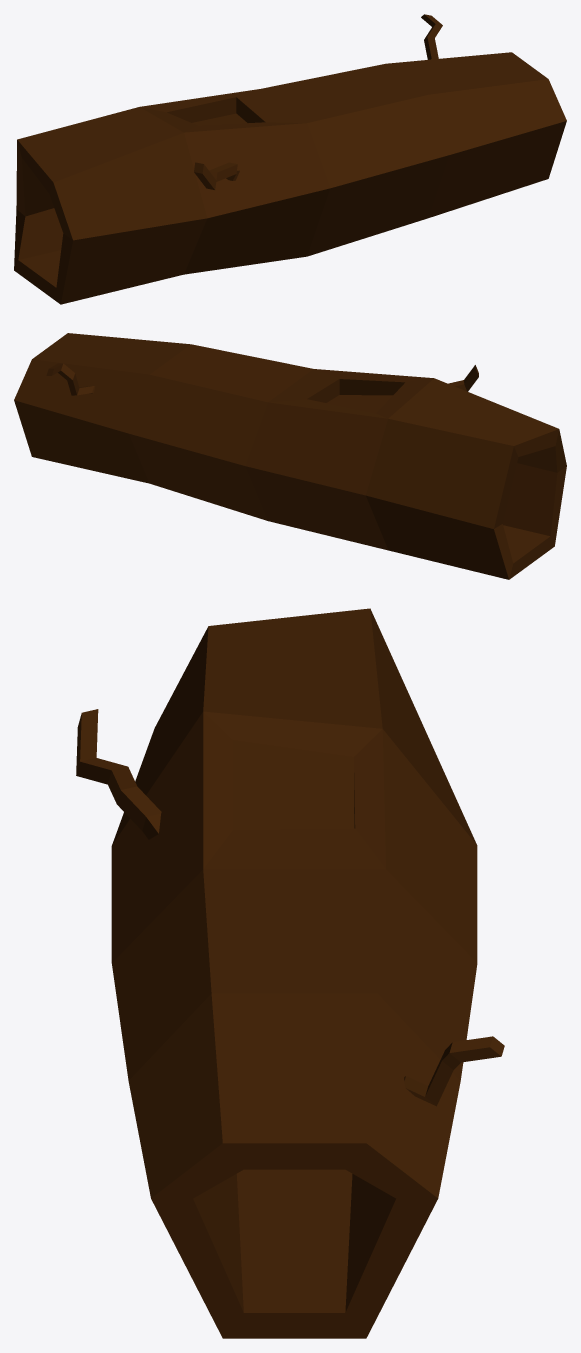
File: Tronco2.fbx
3 renders of one model, top to bottom at view 1: azimuth 30°, elevation 25°; view 2: azimuth 150°, elevation 25°; view 3: azimuth 270°, elevation 25°, orthographic. The views are drawn at different scales.
Visible parts, largest first — view 1: Tronco2; view 2: Tronco2; view 3: Tronco2.
Part boxes in pixels (<box>): Tronco2: <box>14,14,566,304</box>; Tronco2: <box>14,333,566,579</box>; Tronco2: <box>76,608,504,1338</box>.
Size of the model in its own units: 223 by 65.73 by 84.71.
